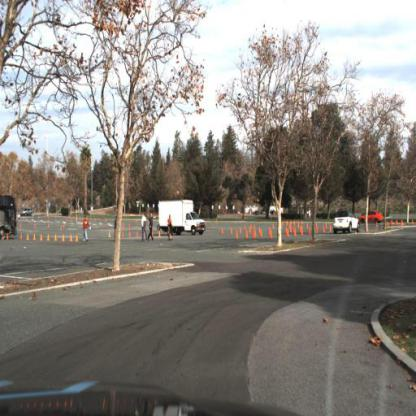car: (332, 209, 362, 235), (361, 211, 385, 224)
pedestrian: (82, 214, 92, 245), (82, 215, 92, 244), (141, 212, 150, 243), (165, 214, 175, 241), (149, 212, 155, 241), (115, 214, 119, 240)
truck: (160, 197, 208, 236)
